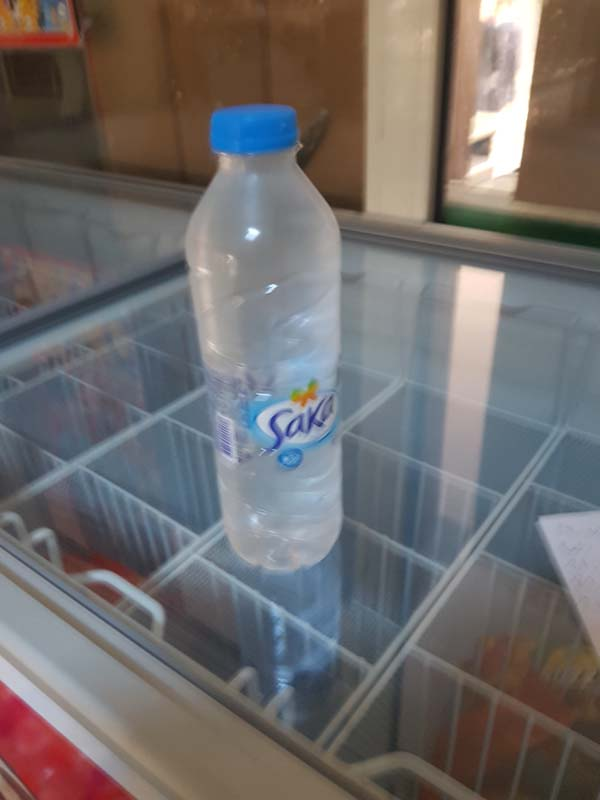saka500mlsu: (185, 95, 356, 578)
